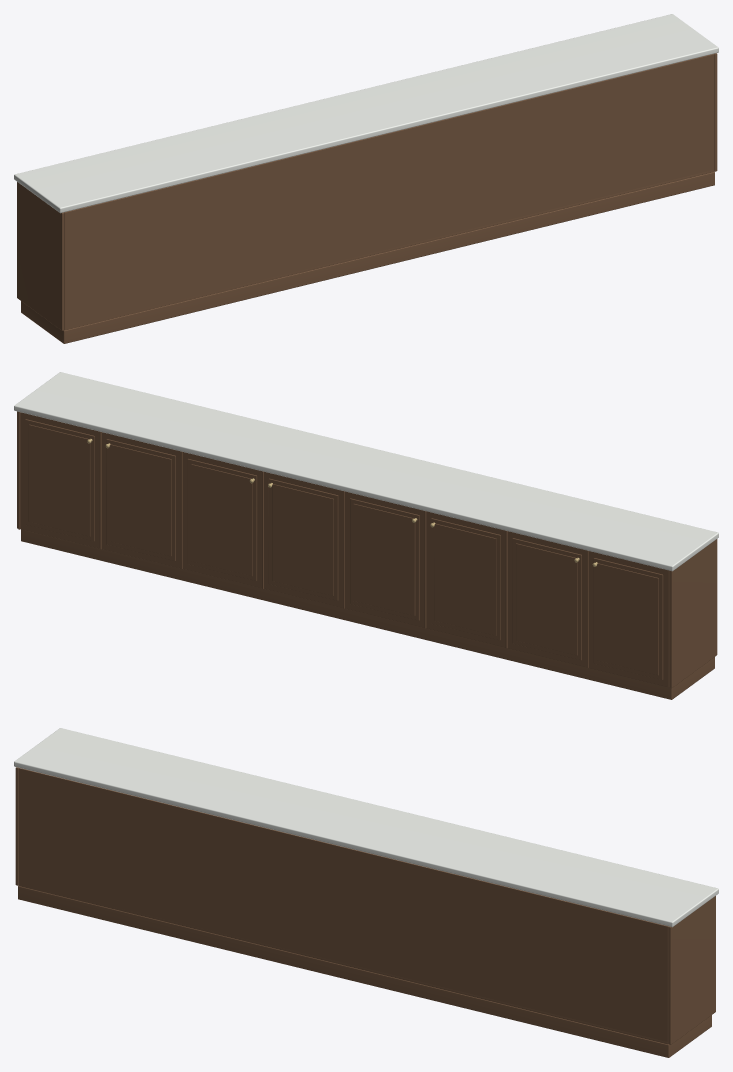
File: lp_case_backbar.glb
3 renders of one model, top to bottom at view 1: azimuth 30°, elevation 25°; view 2: azimuth 150°, elevation 25°; view 3: azimuth 330°, elevation 25°, orthographic.
Parts seen in each view (by area): view 1: lp_case_backbar; view 2: lp_case_backbar; view 3: lp_case_backbar.
Part boxes in pixels (x1,y1,x2,y2): lp_case_backbar: (14, 14, 718, 343); lp_case_backbar: (14, 372, 718, 699); lp_case_backbar: (14, 728, 718, 1057).
Bounding box in the file's own units: 5.03 × 1 × 0.64.
